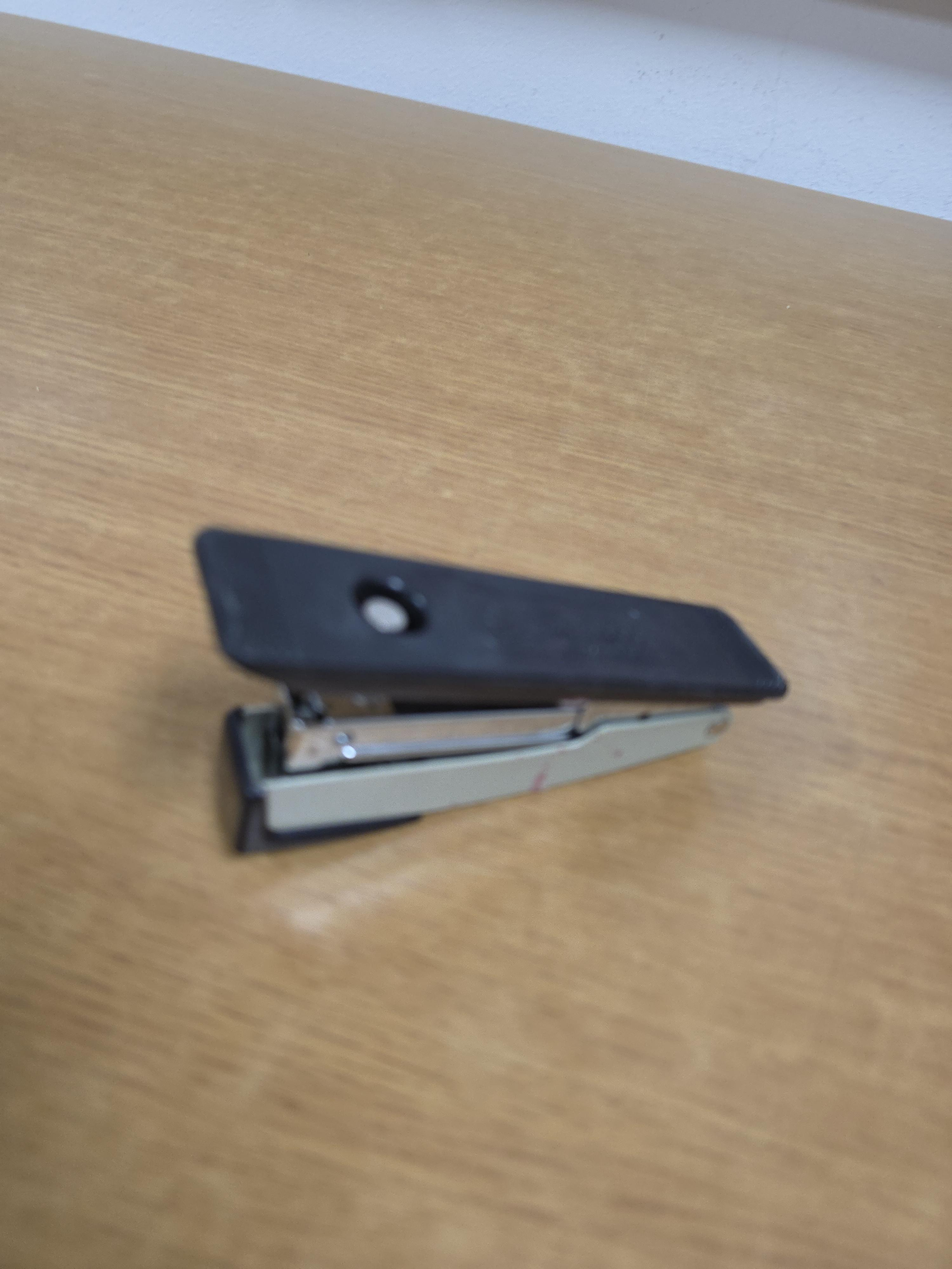stapler: (194, 529, 788, 854)
